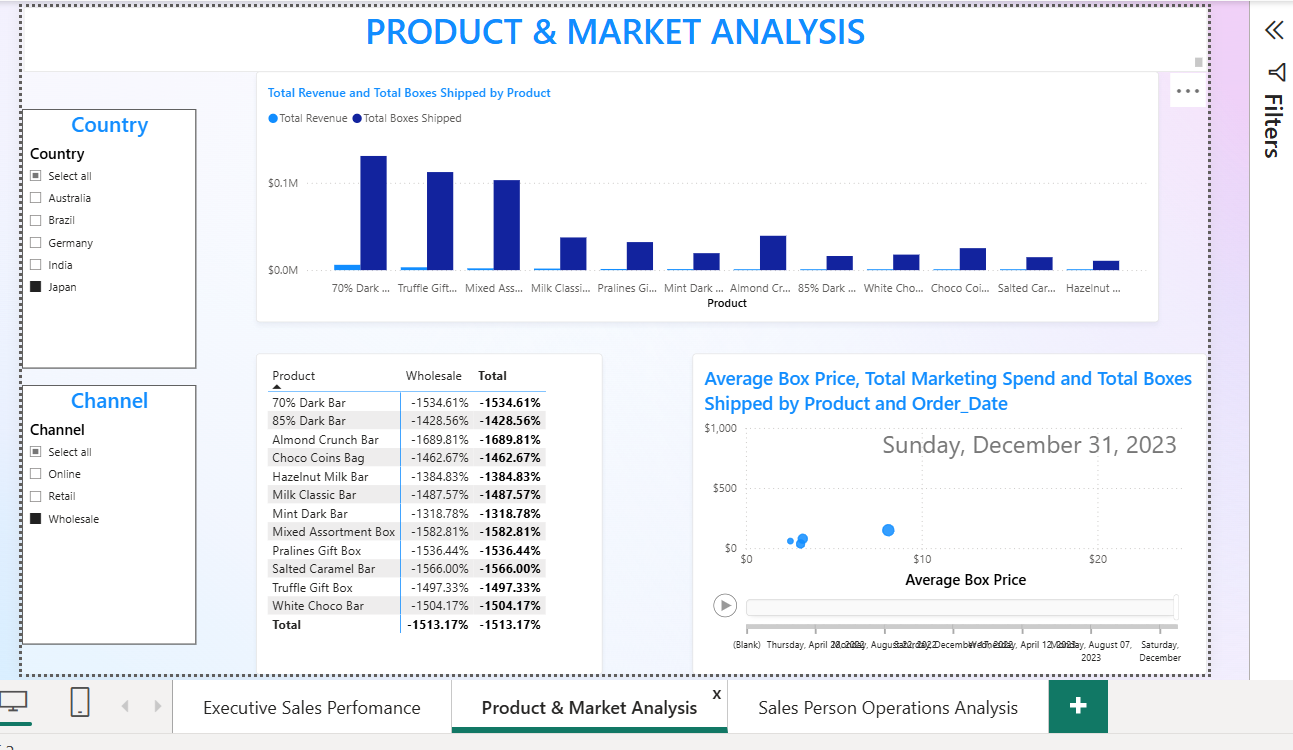

What the dashboard file says about the page in this screenshot:
{"tool":"powerbi","page":{"name":"Product & Market Analysis","canvas":[1280,720],"ordinal":1},"visuals":[{"type":"slicer","title":"Country","fields":{"Values":["Chocolate_Sales.Country"]},"box":[0,110.1,187.8,280.1],"z":0},{"type":"slicer","title":"Channel","fields":{"Values":["Chocolate_Sales.Channel"]},"box":[0,408,187.8,280.1],"z":1000},{"type":"clusteredColumnChart","fields":{"Category":["Chocolate_Sales.Product"],"Y":["Chocolate_Sales.Total Revenue","Chocolate_Sales.Total Boxes Shipped"]},"box":[252.6,69.6,974.8,270.4],"z":2000},{"type":"pivotTable","fields":{"Rows":["Chocolate_Sales.Product"],"Columns":["Chocolate_Sales.Channel"],"Values":["Chocolate_Sales.Gross Profit Margin"]},"box":[252.6,374,374,346.5],"z":3000},{"type":"scatterChart","fields":{"X":["Chocolate_Sales.Average Box Price"],"Y":["Chocolate_Sales.Total Marketing Spend"],"Size":["Chocolate_Sales.Total Boxes Shipped"],"Play":["Chocolate_Sales.Order_Date"],"Category":["Chocolate_Sales.Product"]},"box":[723.8,374,555.4,346.5],"z":4000},{"type":"textbox","title":"PRODUCT & MARKET ANALYSIS","box":[1.6,0,1277.6,69.6],"z":5000}]}

Visuals, with their boxes on the page's 1280x720 design canvas (x1, y1, x2, y2). These are canvas units, not pixel positions in the 1293x750 screenshot, which may show the page scaled, cropped or inside an application window:
"Country" slicer: 0,110,188,390
"Channel" slicer: 0,408,188,688
clusteredColumnChart - Chocolate_Sales.Product x Chocolate_Sales.Total Revenue: 253,70,1227,340
pivotTable - Chocolate_Sales.Product x Chocolate_Sales.Channel: 253,374,627,720
scatterChart - Chocolate_Sales.Average Box Price x Chocolate_Sales.Total Marketing Spend: 724,374,1279,720
"PRODUCT & MARKET ANALYSIS" textbox: 2,0,1279,70
